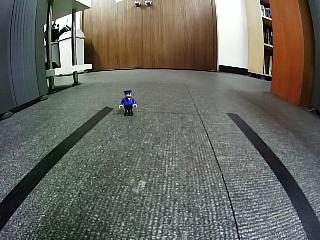person: (118, 90, 138, 116)
